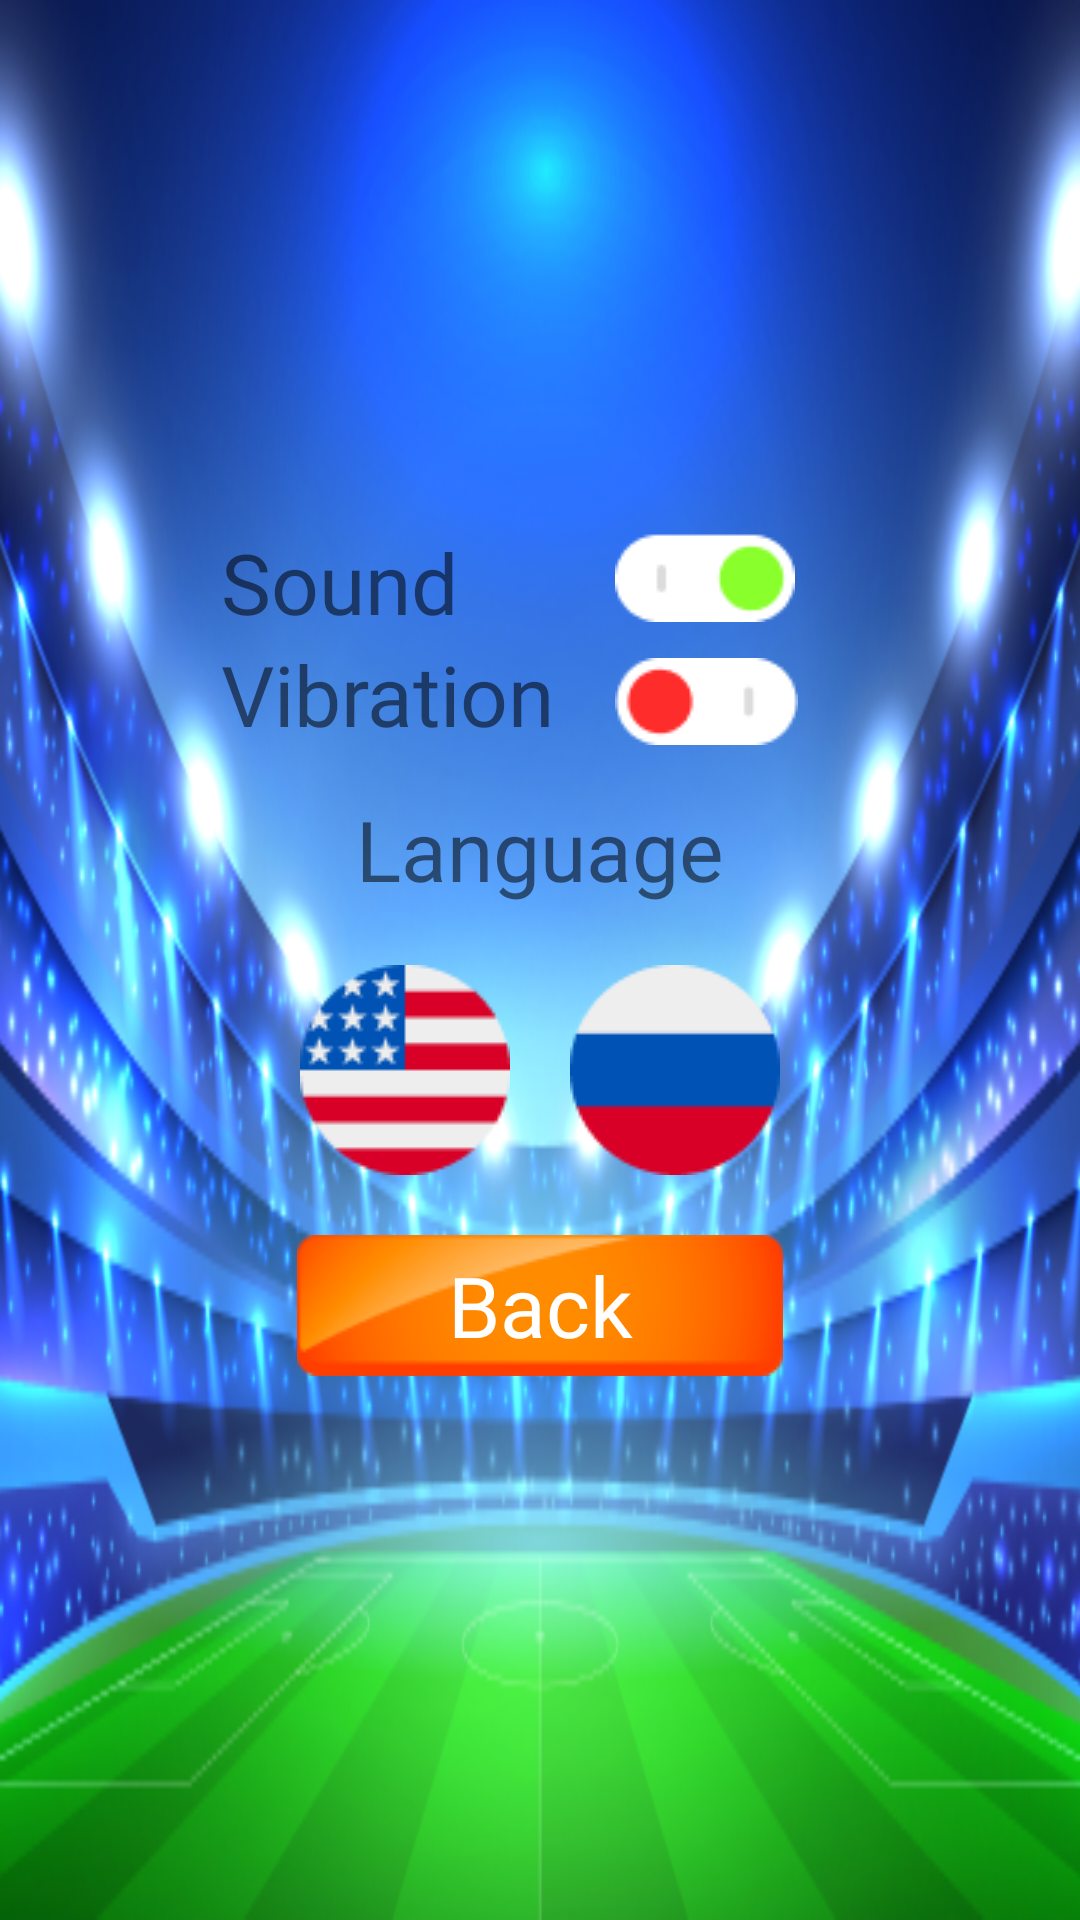

Screen size 1080 × 1920. Icon name, then its center in pixels as point (x, y):
flag eng: point (405, 1070)
flag ru: point (675, 1070)
switch off: point (706, 701)
switch on: point (705, 577)
